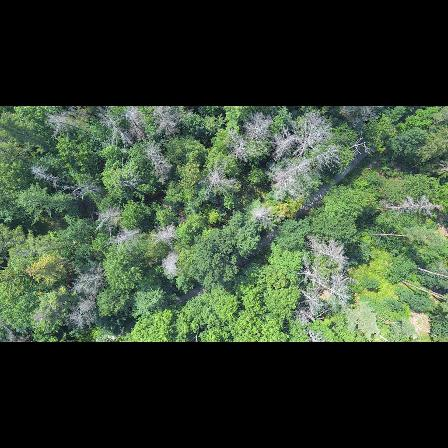Dead: (283, 150, 337, 177), (298, 115, 332, 154), (375, 196, 444, 214), (67, 292, 102, 327), (68, 264, 107, 295), (30, 162, 76, 188), (199, 162, 235, 195), (98, 109, 129, 145), (309, 237, 348, 263), (147, 146, 174, 180), (52, 182, 102, 200), (91, 208, 125, 234), (106, 228, 140, 253), (152, 106, 182, 134), (244, 116, 275, 143), (243, 203, 278, 224), (151, 221, 178, 248), (123, 106, 147, 136), (312, 280, 349, 299), (349, 133, 373, 157), (161, 252, 180, 281), (274, 135, 298, 155), (294, 304, 316, 324), (271, 178, 294, 191)
